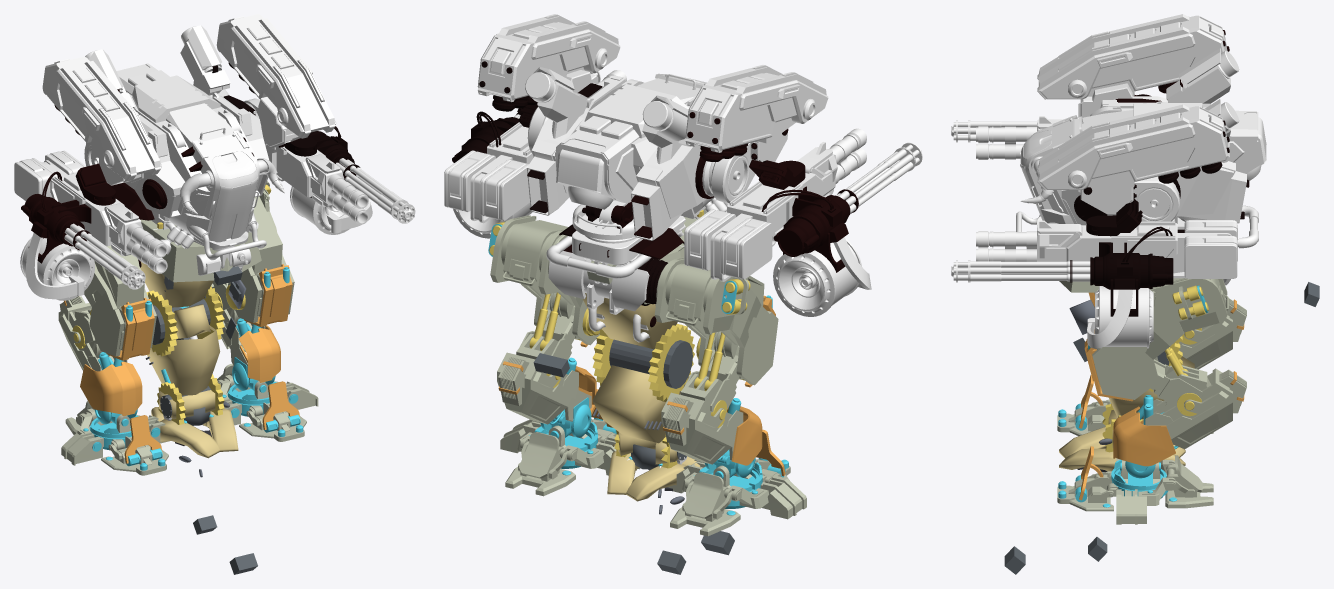
The model's file is MASTER_LEG_50_STEPS_COMPLETE.glb.
3 renders of one model, left to right at view 1: azimuth 30°, elevation 25°; view 2: azimuth 150°, elevation 25°; view 3: azimuth 270°, elevation 25°, orthographic. The views are drawn at different scales.
Visible parts, largest first — view 1: Top_part_low_Hands_0, Cube.016_low_Body_0, Cube.007_low_Hands_0, Plane.006_low_Legs_0, Cube.010_low_Body_0, Cube.018_low_Legs_0, Cylinder.012_low_Hands_0, Plane.003_low_Legs_0, Cube.037_low_Body_0, Shin_Armor_Monocoque, Cylinder.013_low_Hands_0, Cube.039_low_Legs_0 (+38 smaller); view 2: Top_part_low_Hands_0, Cube.004_low_Hands_0, Cube.018_low_Legs_0, Cube.052_low_Legs_0, Cube.007_low_Hands_0, Cube.010_low_Body_0, Cube.016_low_Body_0, Cylinder.012_low_Hands_0, Cube.039_low_Legs_0, Shin_Armor_Monocoque, Bot_part_low_Hands_0, Cube.011_low_Body_0 (+40 smaller); view 3: Top_part_low_Hands_0, Cube.018_low_Legs_0, Cube.052_low_Legs_0, Cube.007_low_Hands_0, Cube.010_low_Body_0, Bot_part_low_Hands_0, Cube.016_low_Body_0, Cylinder.013_low_Hands_0, Cube.004_low_Hands_0, Plane.006_low_Legs_0, Cylinder.012_low_Hands_0, Cylinder.009_low_Hands_0 (+30 smaller).
Boxes of the visible parts, left/top/right/bottom form: Top_part_low_Hands_0: left=42, top=14, right=336, bottom=180; Cube.016_low_Body_0: left=117, top=63, right=259, bottom=245; Cube.007_low_Hands_0: left=40, top=145, right=344, bottom=256; Plane.006_low_Legs_0: left=80, top=325, right=280, bottom=416; Cube.010_low_Body_0: left=120, top=41, right=269, bottom=218; Cube.018_low_Legs_0: left=84, top=188, right=294, bottom=356; Cylinder.012_low_Hands_0: left=20, top=186, right=363, bottom=300; Plane.003_low_Legs_0: left=106, top=264, right=292, bottom=360; Cube.037_low_Body_0: left=208, top=151, right=257, bottom=242; Shin_Armor_Monocoque: left=147, top=325, right=220, bottom=395; Cylinder.013_low_Hands_0: left=126, top=174, right=368, bottom=273; Cube.039_low_Legs_0: left=94, top=196, right=282, bottom=308; Top_part_low_Hands_0: left=477, top=14, right=828, bottom=152; Cube.004_low_Hands_0: left=444, top=150, right=772, bottom=279; Cube.018_low_Legs_0: left=490, top=215, right=778, bottom=385; Cube.052_low_Legs_0: left=497, top=352, right=736, bottom=464; Cube.007_low_Hands_0: left=470, top=122, right=837, bottom=281; Cube.010_low_Body_0: left=531, top=75, right=706, bottom=218; Cube.016_low_Body_0: left=556, top=75, right=711, bottom=219; Cylinder.012_low_Hands_0: left=453, top=202, right=861, bottom=316; Cube.039_low_Legs_0: left=501, top=220, right=764, bottom=344; Shin_Armor_Monocoque: left=592, top=365, right=689, bottom=443; Bot_part_low_Hands_0: left=527, top=70, right=787, bottom=203; Cube.011_low_Body_0: left=527, top=156, right=682, bottom=240; Top_part_low_Hands_0: left=1037, top=14, right=1229, bottom=190; Cube.018_low_Legs_0: left=1092, top=278, right=1227, bottom=399; Cube.052_low_Legs_0: left=1143, top=298, right=1246, bottom=449; Cube.007_low_Hands_0: left=1037, top=123, right=1231, bottom=278; Cube.010_low_Body_0: left=1061, top=68, right=1233, bottom=225; Bot_part_low_Hands_0: left=1078, top=83, right=1179, bottom=221; Cube.016_low_Body_0: left=1025, top=103, right=1256, bottom=209; Cylinder.013_low_Hands_0: left=976, top=126, right=1036, bottom=261; Cube.004_low_Hands_0: left=1184, top=220, right=1237, bottom=278; Plane.006_low_Legs_0: left=1113, top=406, right=1175, bottom=466; Cylinder.012_low_Hands_0: left=1095, top=286, right=1153, bottom=348; Cylinder.009_low_Hands_0: left=1090, top=253, right=1173, bottom=289.
Bounding box in the file's own units: 6.17 × 8.15 × 5.41.
